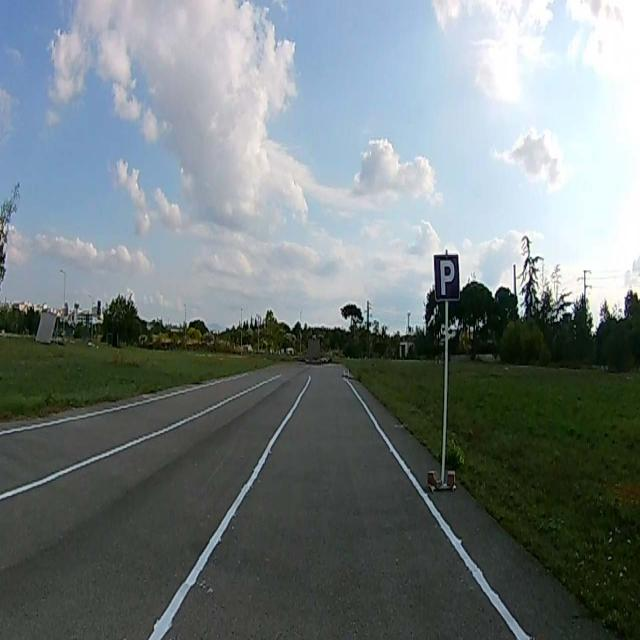park: (432, 256, 458, 300)
